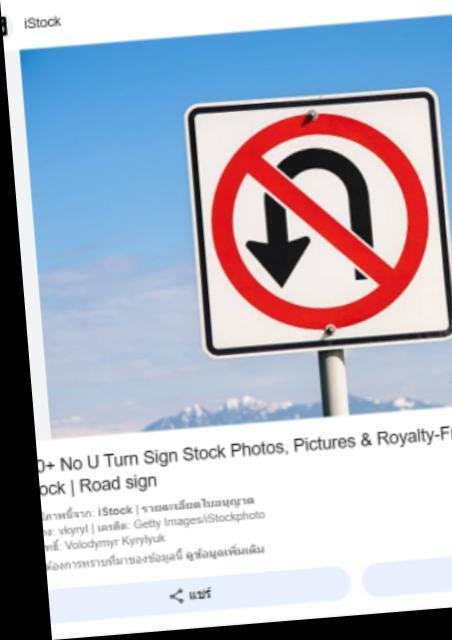not_u_turn_left: (195, 101, 441, 349)
